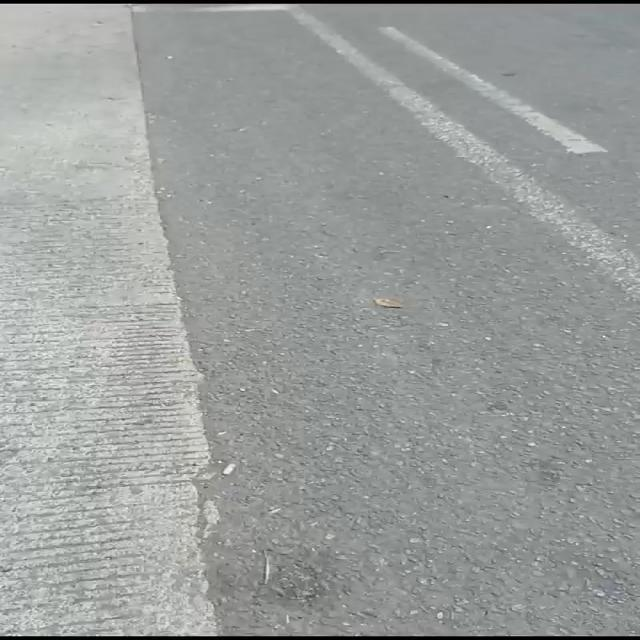Sambungan: (0, 0, 218, 640)
